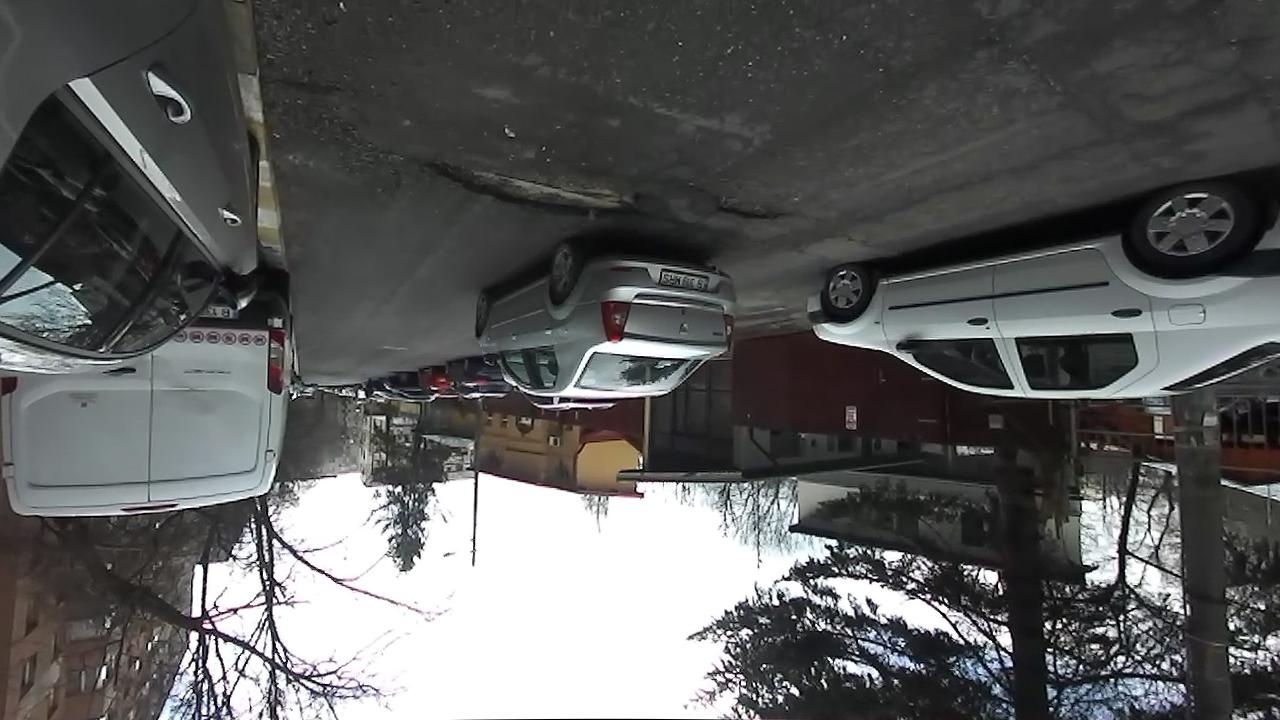pothole: (408, 154, 642, 224), (707, 184, 789, 225)
